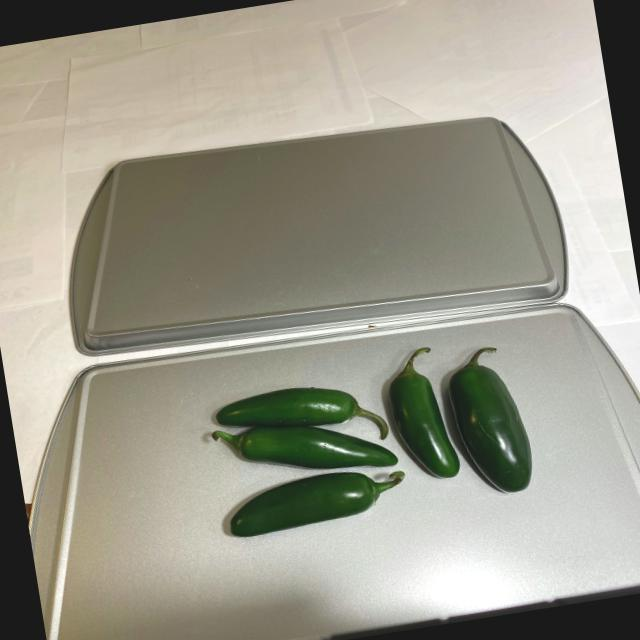chilli: (180, 332, 550, 546)
